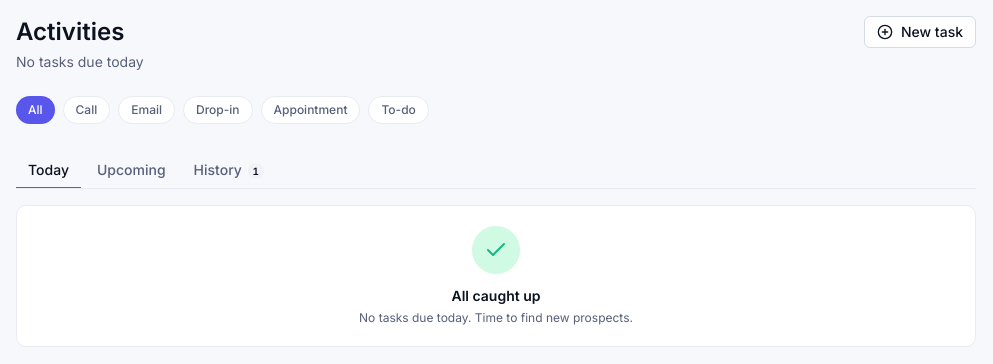
ActivitiesPage / History tab reflects current data › activity with orphaned dealId (deal was deleted) is skipped, not crashed
The image size is (993, 364).
Should still render the History tab without throwing.
What coordinates should you click on to do the following:
click the tab "History 1"
I would click on:
 (229, 170)
Its box is [182, 152, 276, 188].
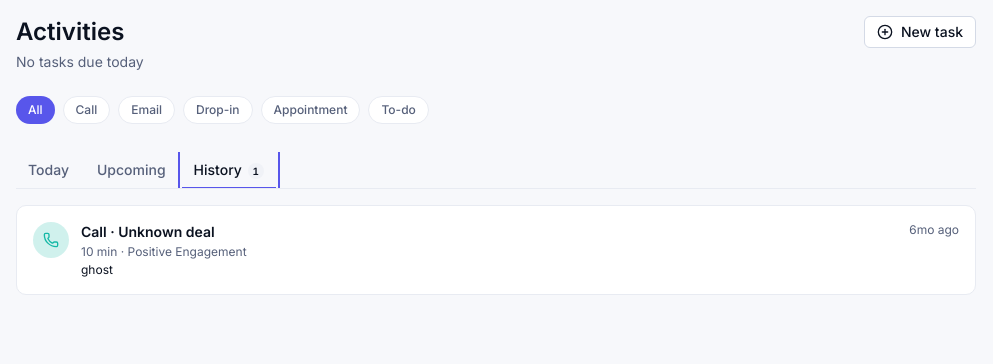
Now the text "Call · Unknown deal" is shown, box [81, 223, 215, 240]
